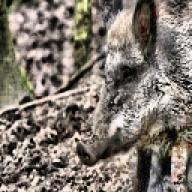boar: (73, 0, 192, 192)
